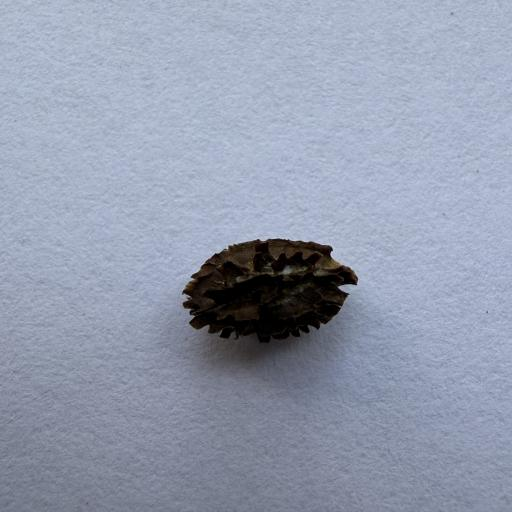papaya_seed: (178, 219, 378, 362)
